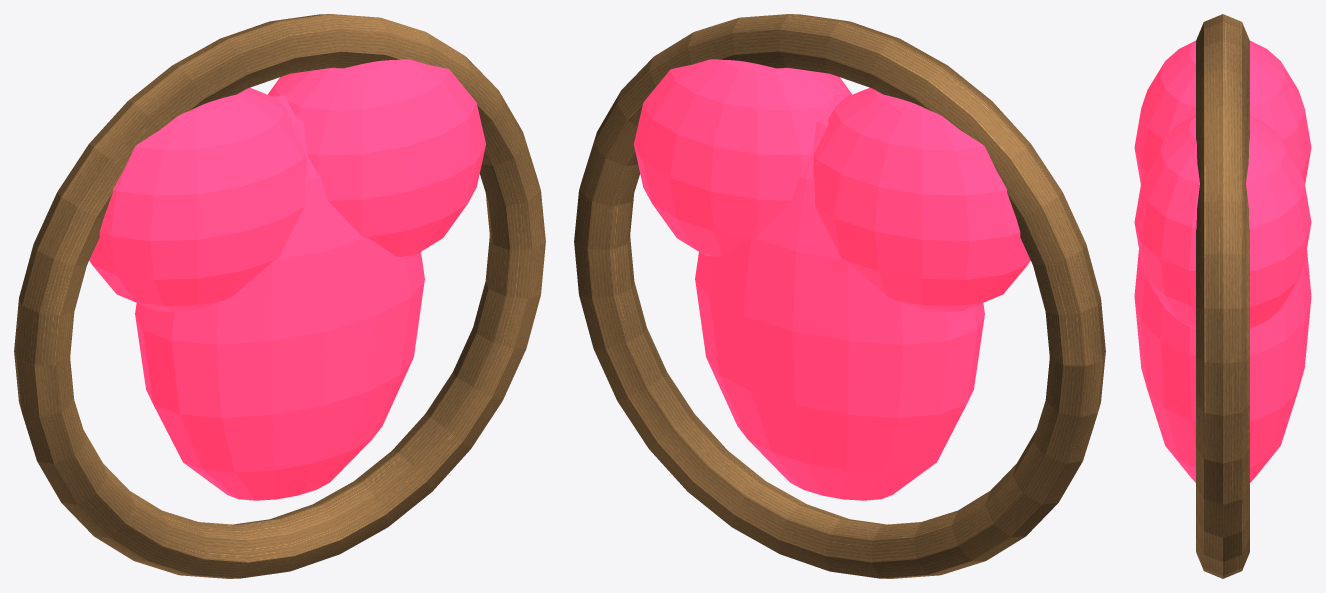
File: life_shard.glb
The picture shows the model from 3 angles, left to right: view 1: azimuth 30°, elevation 25°; view 2: azimuth 150°, elevation 25°; view 3: azimuth 270°, elevation 25°; orthographic projection. The views are drawn at different scales.
Parts seen in each view (by area): view 1: life_shard; view 2: life_shard; view 3: life_shard.
Part boxes in pixels (x1,y1,x2,y2): life_shard: (14, 14, 545, 578); life_shard: (574, 14, 1105, 578); life_shard: (1134, 14, 1311, 578).
Size of the model in its own units: 1.15 by 1.15 by 0.36.
2 materials, 1 textured.
